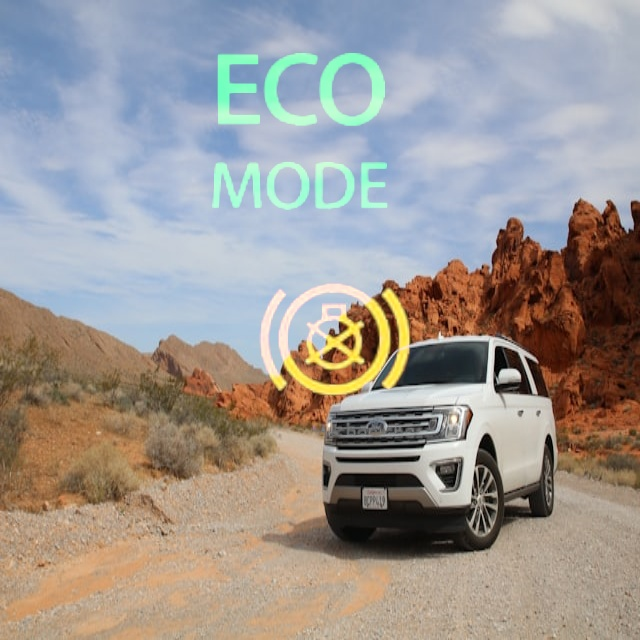symbol: (226, 233, 442, 449), (197, 32, 402, 237)
